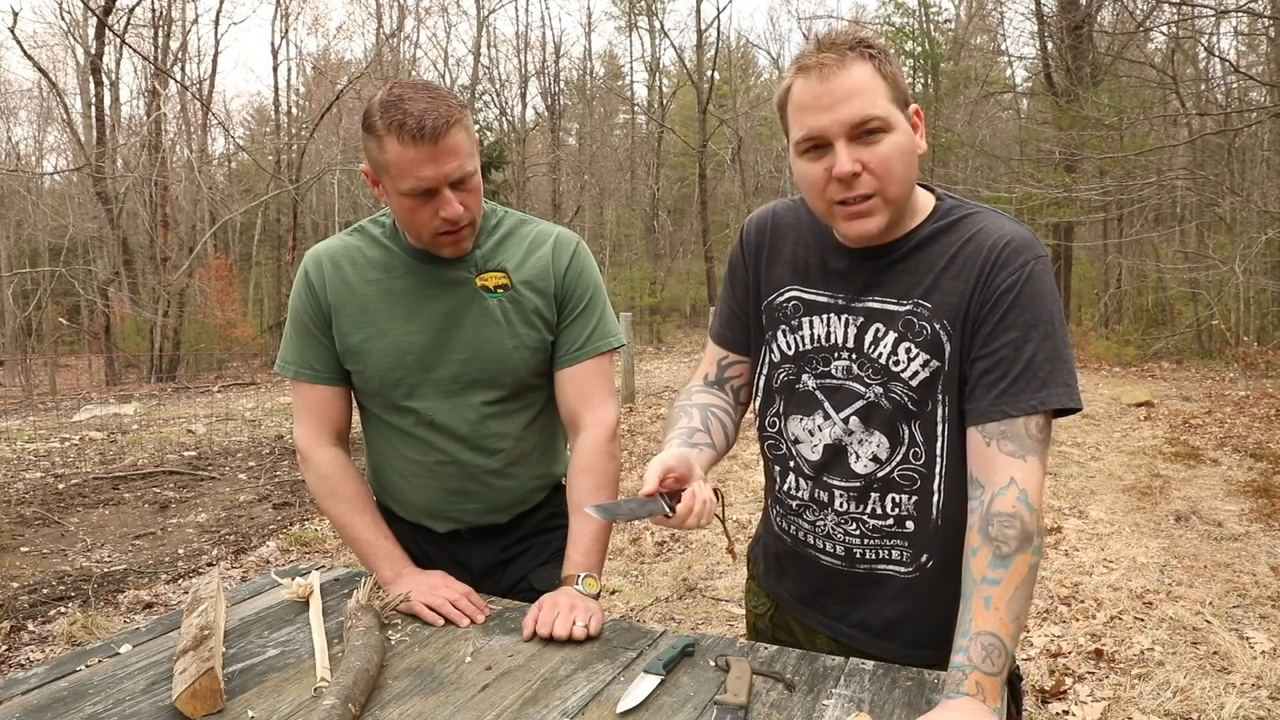knife: (568, 463, 732, 537)
